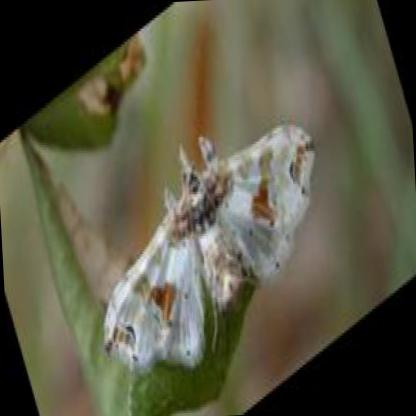leucinodes: (105, 133, 314, 374)
